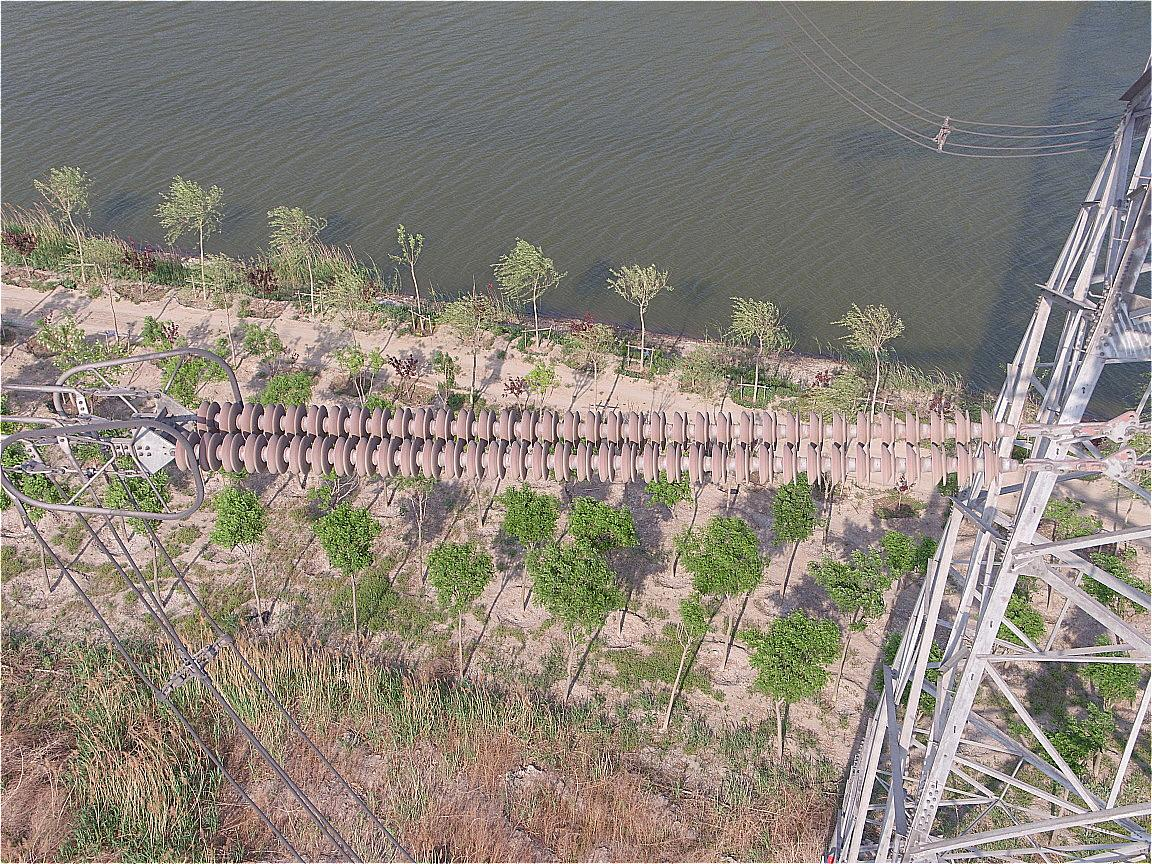insultor2: (176, 401, 1002, 488)
